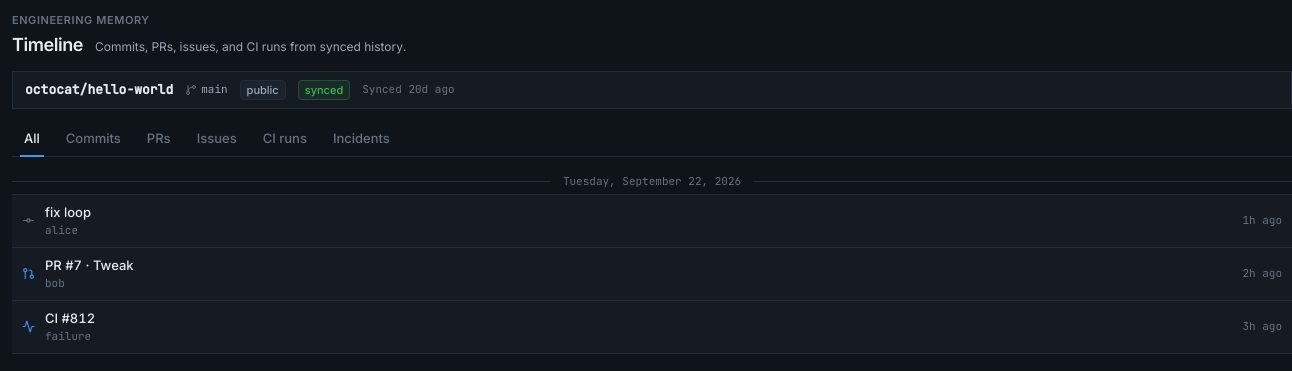
Test: TimelinePage real event stream › filters by event kind without inventing activity
Check: the text "fix loop" is shown, box [45,204,91,220]
Click the button "CI runs": [285, 138] box [251,120,319,156]
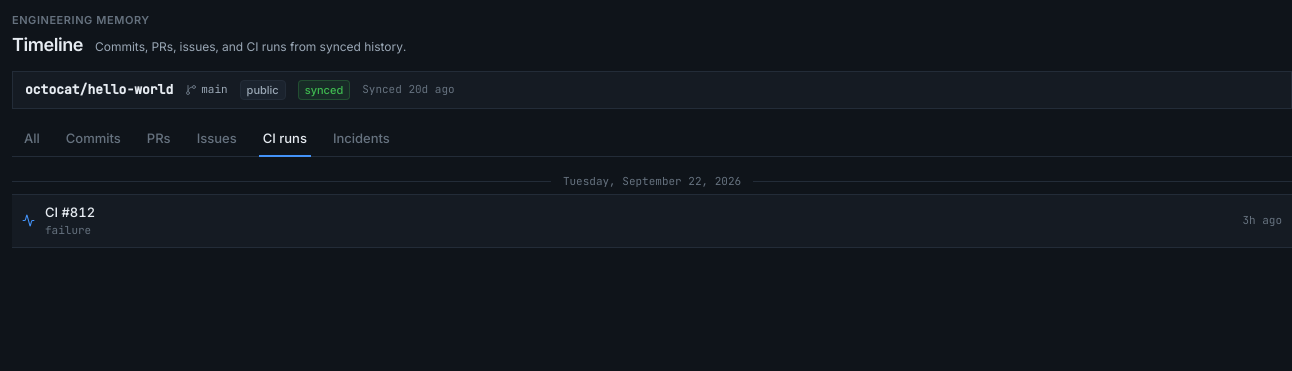
Check: the text "CI #812" is shown, box [45,204,95,220]
Check: the link "fix loop" is gone
